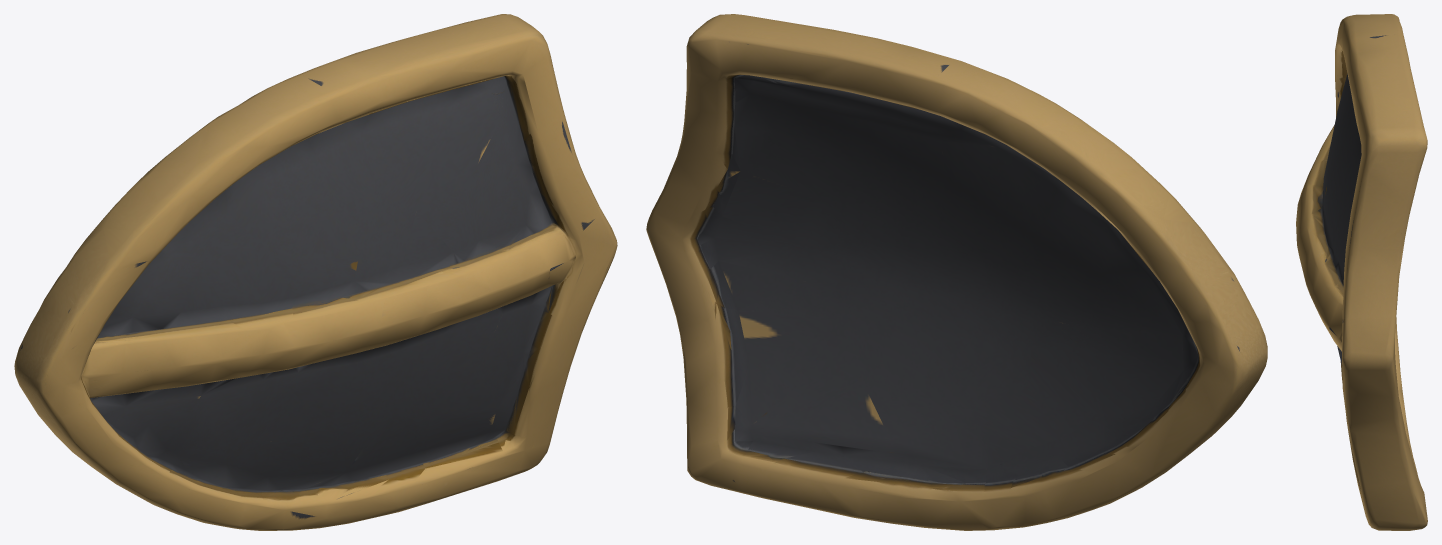
Rendered from RexShield.glb.
3 renders of one model, left to right at view 1: azimuth 30°, elevation 25°; view 2: azimuth 150°, elevation 25°; view 3: azimuth 270°, elevation 25°, orthographic. The views are drawn at different scales.
Visible parts, largest first — view 1: RexShield; view 2: RexShield; view 3: RexShield.
Boxes of the visible parts, x1,y1,x2,y2 form: RexShield: [14, 14, 617, 530]; RexShield: [646, 14, 1267, 530]; RexShield: [1296, 14, 1427, 530].
Bounding box in the file's own units: 1.9 × 1.4 × 0.4098.
Materials: 1 (1 with a texture image).
